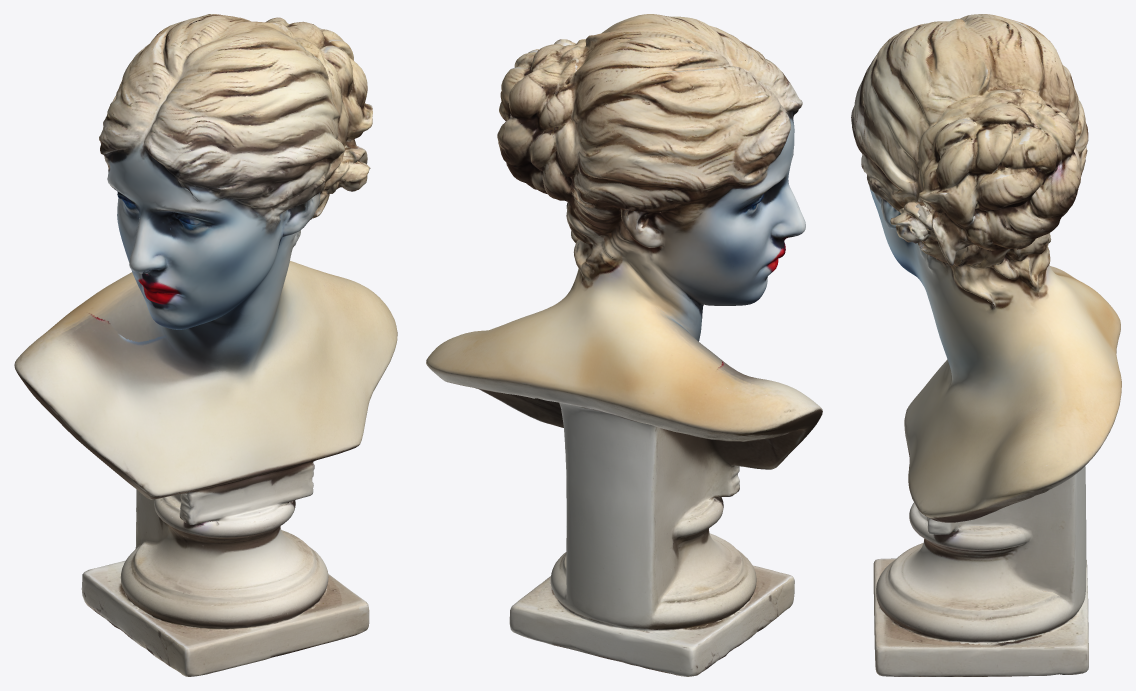
3 renders of one model, left to right at view 1: azimuth 30°, elevation 25°; view 2: azimuth 150°, elevation 25°; view 3: azimuth 270°, elevation 25°, orthographic. The views are drawn at different scales.
Visible parts, largest first — view 1: textured.003; view 2: textured.003; view 3: textured.003.
Part boxes in pixels (x1,y1,x2,y2): textured.003: (14, 14, 397, 676); textured.003: (426, 14, 822, 676); textured.003: (851, 14, 1121, 676).
Bounding box in the file's own units: 1.32 × 2 × 0.8123.
Materials: 1 (1 with a texture image).
